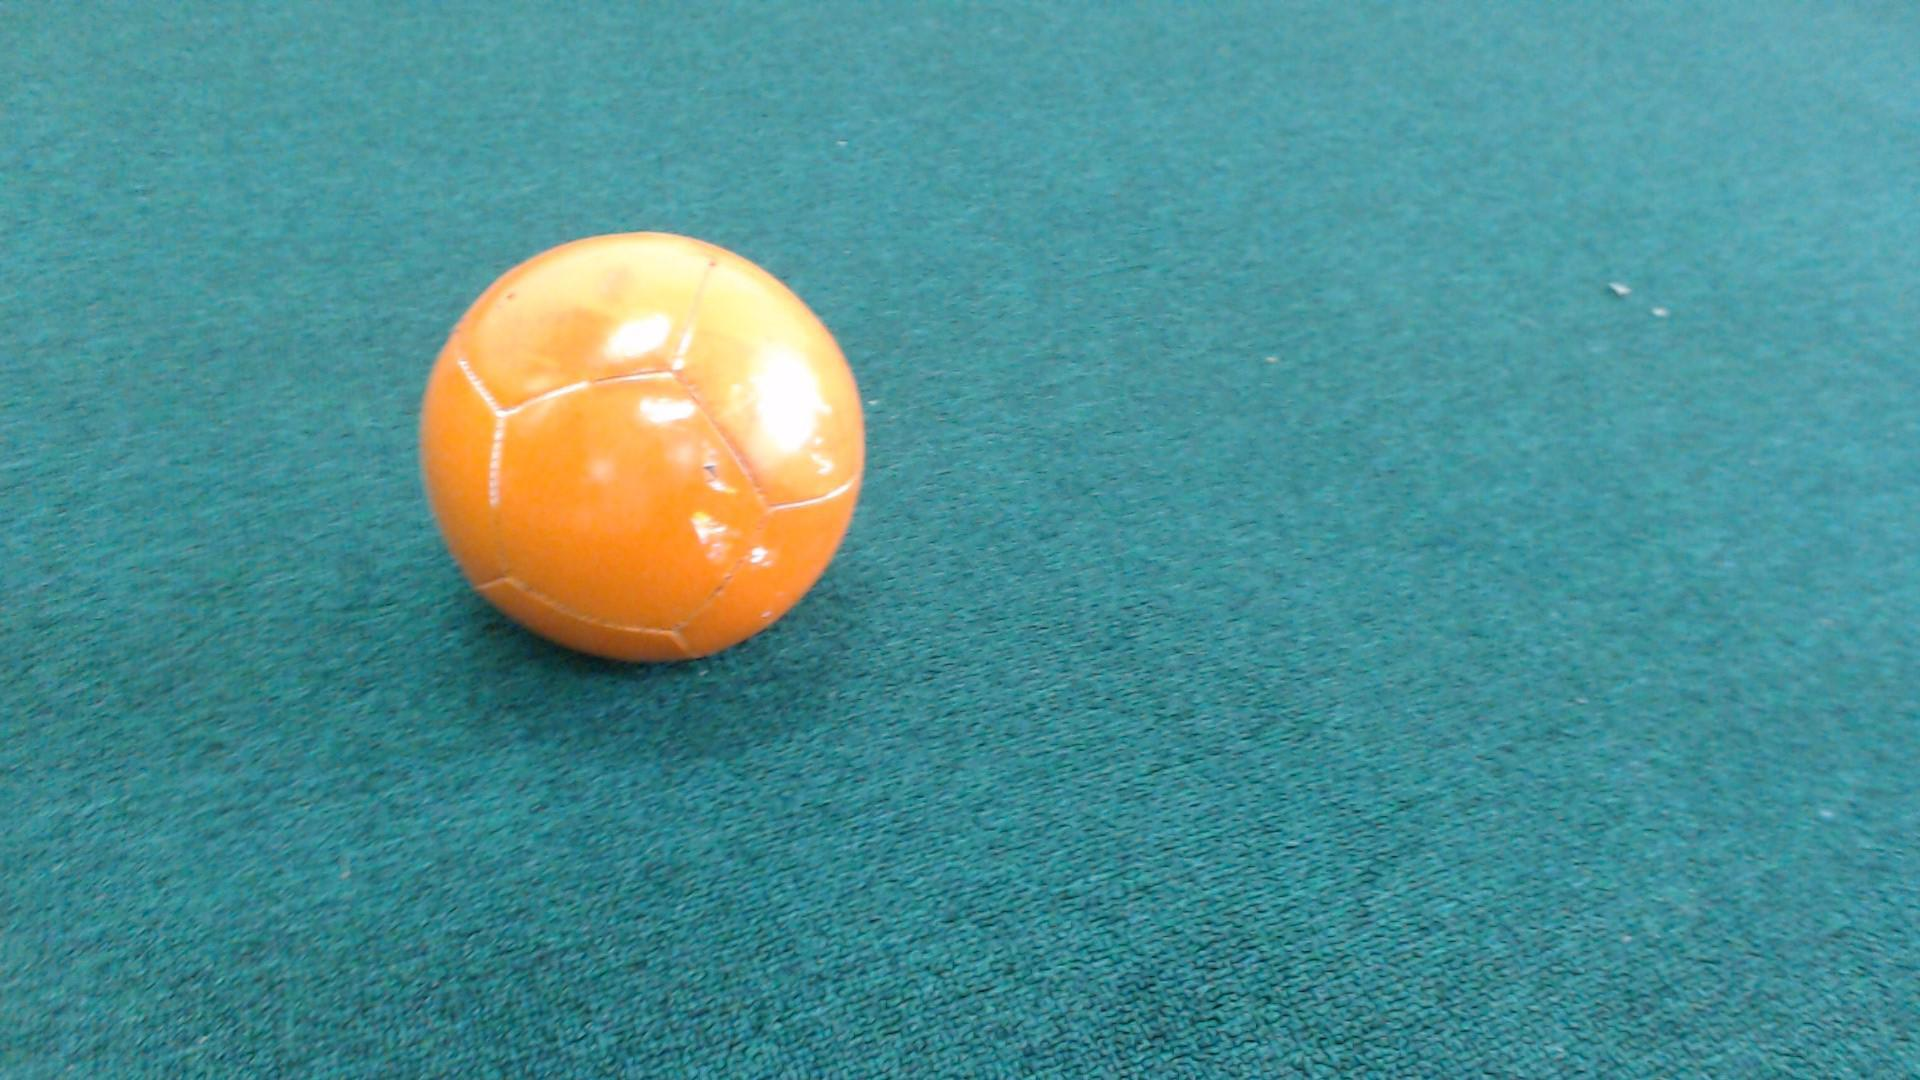bola: (392, 215, 913, 721)
